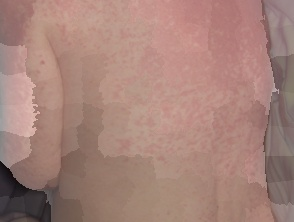SJS-TEN: (53, 0, 280, 198), (1, 0, 50, 167)
